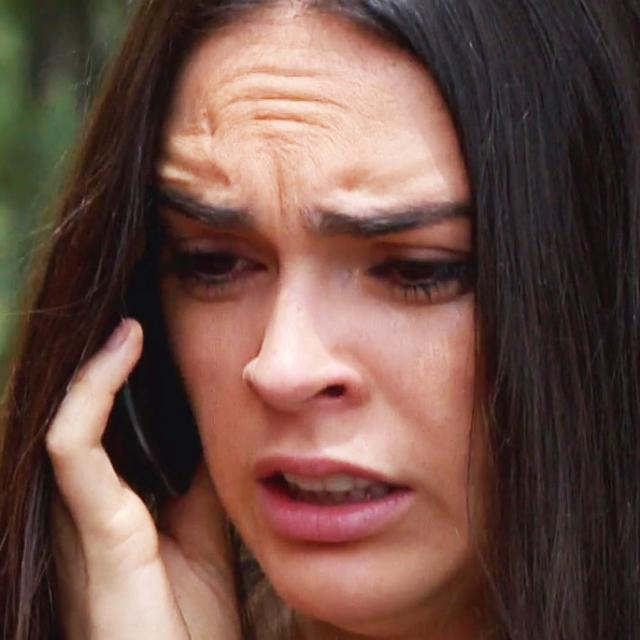Depress: (153, 3, 536, 623)
